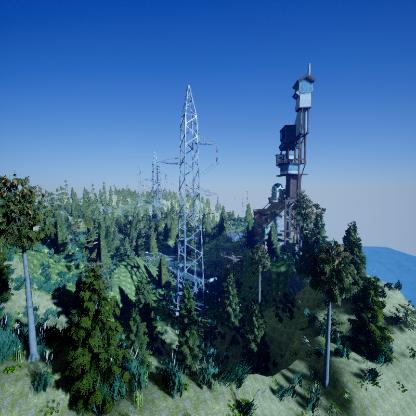tower: (154, 84, 222, 336)
